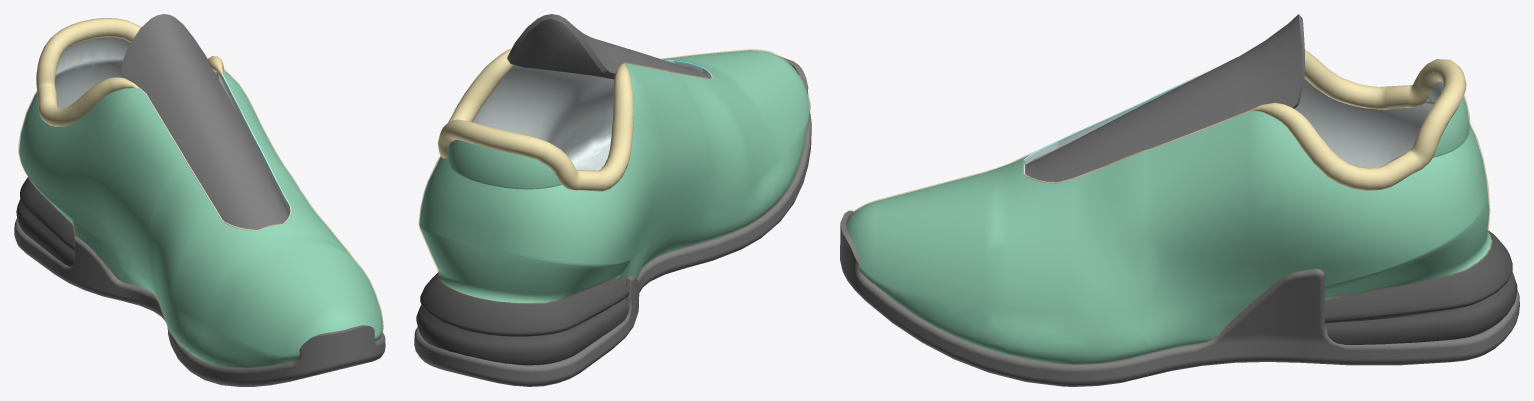
The model's file is Sneakers1.gltf.
3 renders of one model, left to right at view 1: azimuth 30°, elevation 25°; view 2: azimuth 150°, elevation 25°; view 3: azimuth 270°, elevation 25°, orthographic. The views are drawn at different scales.
Visible parts, largest first — view 1: EdgeFillet.7, _X2_978B76AE_X0_2, ThickSurface.2, _X2_51434EF6672C9AD4_X0_, CloseSurface.6, ThickSurface.7, CloseSurface.4; view 2: EdgeFillet.7, _X2_978B76AE_X0_2, CloseSurface.4, ThickSurface.7, _X2_51434EF6672C9AD4_X0_, CloseSurface.6, ThickSurface.2; view 3: EdgeFillet.7, _X2_978B76AE_X0_2, _X2_51434EF6672C9AD4_X0_, ThickSurface.2, CloseSurface.4, CloseSurface.6, ThickSurface.7.
Part boxes in pixels (x1,y1,x2,y2): EdgeFillet.7: (18, 68, 383, 367); _X2_978B76AE_X0_2: (19, 70, 382, 367); ThickSurface.2: (121, 14, 288, 229); _X2_51434EF6672C9AD4_X0_: (14, 218, 385, 386); CloseSurface.6: (36, 18, 224, 126); ThickSurface.7: (55, 37, 291, 230); CloseSurface.4: (16, 177, 75, 265); EdgeFillet.7: (418, 49, 810, 304); _X2_978B76AE_X0_2: (419, 50, 809, 302); CloseSurface.4: (416, 272, 629, 365); ThickSurface.7: (473, 60, 712, 170); _X2_51434EF6672C9AD4_X0_: (414, 55, 811, 386); CloseSurface.6: (438, 49, 633, 191); ThickSurface.2: (507, 14, 708, 79); EdgeFillet.7: (846, 67, 1492, 364); _X2_978B76AE_X0_2: (846, 78, 1491, 364); _X2_51434EF6672C9AD4_X0_: (840, 210, 1519, 386); ThickSurface.2: (1025, 14, 1304, 182); CloseSurface.4: (1325, 230, 1517, 344); CloseSurface.6: (1250, 49, 1466, 190); ThickSurface.7: (1023, 73, 1442, 183).
Bounding box in the file's own units: 23.18 × 30.05 × 58.85.
